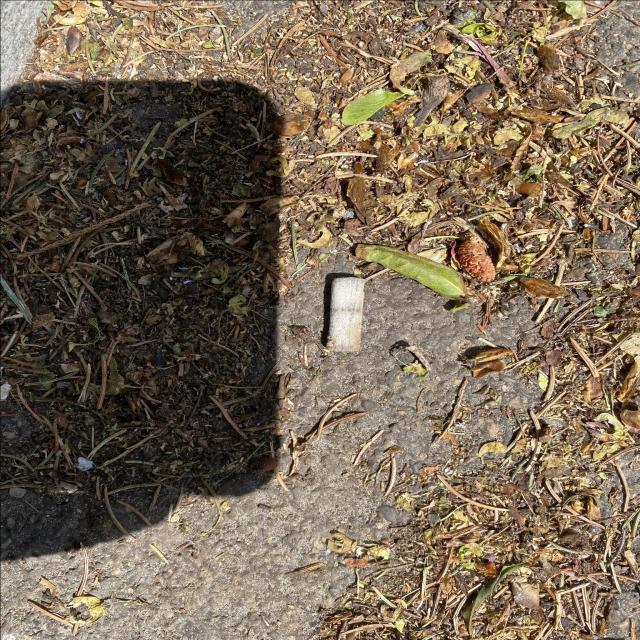other waste: (324, 276, 366, 354)
